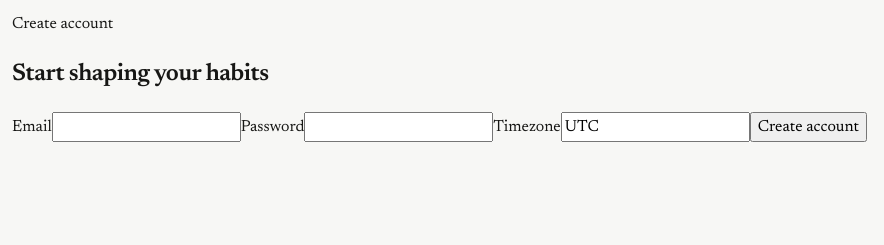
RegistrationForm › shows a safe server error
Step 1. Type "farhan@example.com" into the field labelled "Email" → (146, 127), box left=52, top=112, right=241, bottom=142
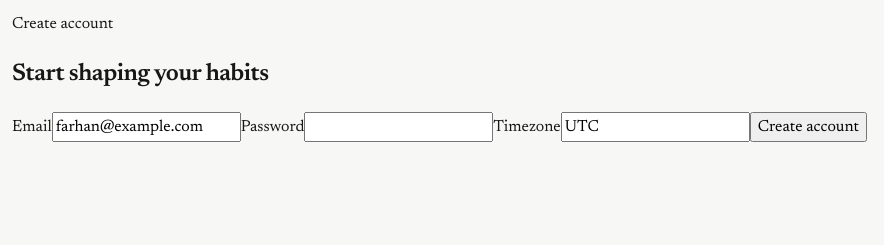
Step 2. Type "correct horse battery staple" into the password field labelled "Password" → (399, 127), box left=304, top=112, right=493, bottom=142
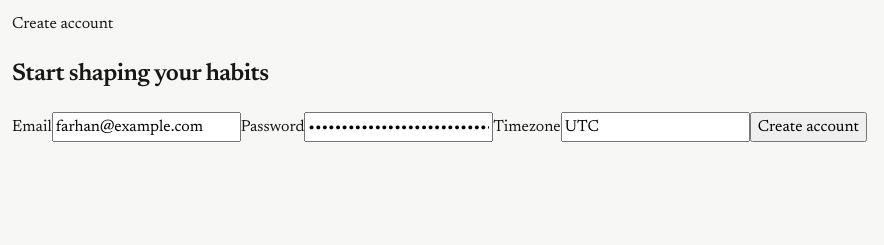
Step 3. Submit the form from the button "Create account", box left=750, top=112, right=867, bottom=142
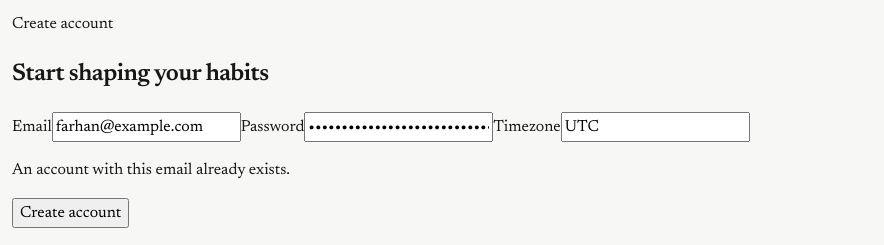
Check: the message reads "An account with this email already exists.", box left=12, top=162, right=290, bottom=178
